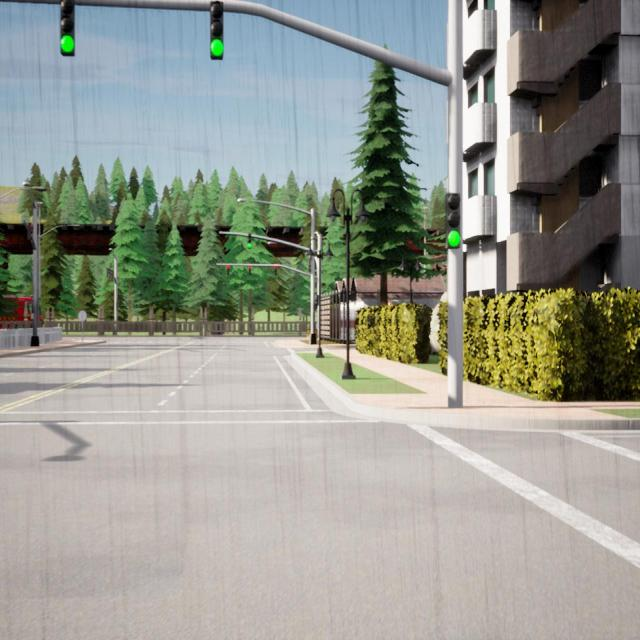Traffic_Signs: (79, 311, 86, 320)
Vehicle: (0, 297, 43, 329)
traffic_light: (60, 1, 74, 56), (446, 193, 460, 248), (210, 1, 223, 59), (28, 223, 32, 239), (248, 234, 251, 248), (227, 265, 230, 275), (274, 266, 277, 275), (107, 268, 109, 278), (249, 265, 251, 275), (109, 268, 111, 278), (112, 270, 114, 278)
